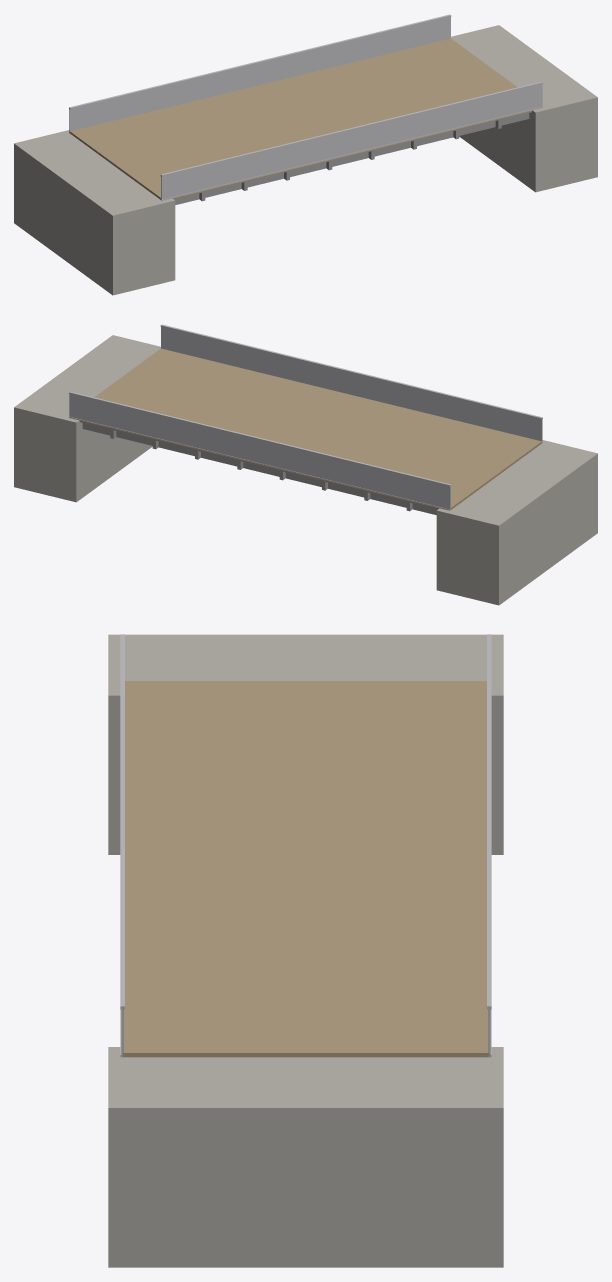
The model's file is cp_oak_bridge.glb.
3 views of the same model, one above another, from view 1: azimuth 30°, elevation 25°; view 2: azimuth 150°, elevation 25°; view 3: azimuth 270°, elevation 25° (orthographic). The views are drawn at different scales.
Visible parts, largest first — view 1: OakBridge; view 2: OakBridge; view 3: OakBridge.
Part boxes in pixels (x1,y1,x2,y2): OakBridge: (14, 14, 597, 295); OakBridge: (14, 324, 597, 605); OakBridge: (108, 634, 503, 1267).
Bounding box in the file's own units: 23.29 × 4.83 × 8.22.
